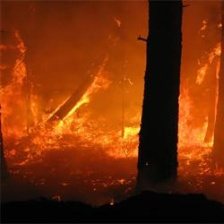fire: (1, 64, 224, 172)
